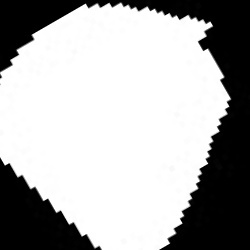spot: (2, 4, 231, 248)
